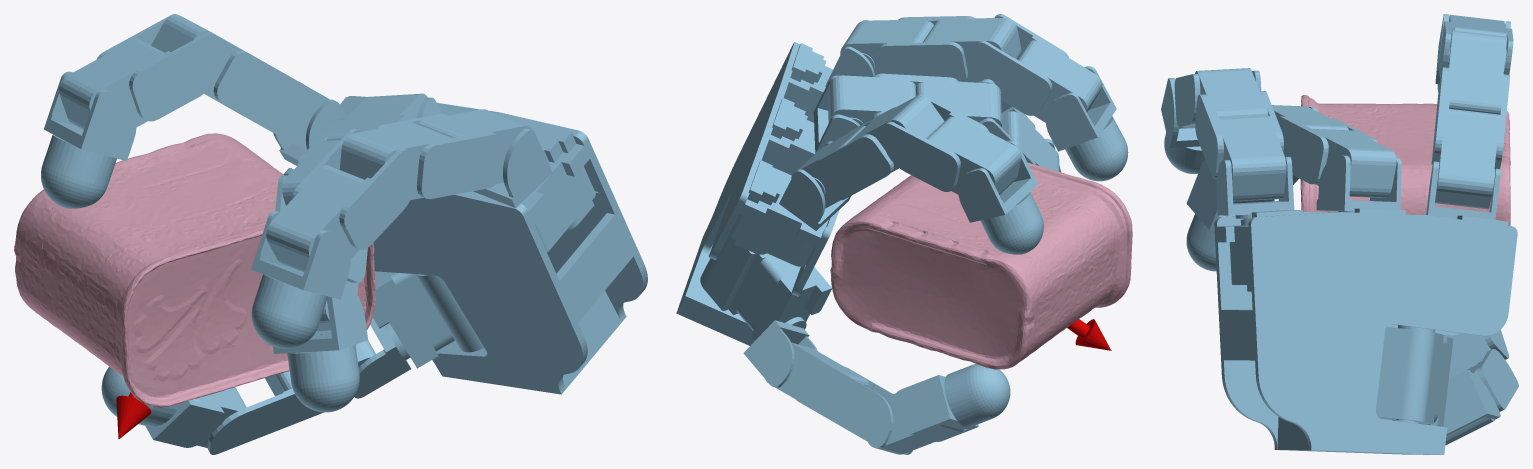
3 views of the same model, side by side, from view 1: azimuth 30°, elevation 25°; view 2: azimuth 150°, elevation 25°; view 3: azimuth 270°, elevation 25° (orthographic). The views are drawn at different scales.
Visible parts, largest first — view 1: world, potted_meat_can.stl; view 2: world, potted_meat_can.stl; view 3: world, potted_meat_can.stl.
Part boxes in pixels (x1=…): world: x1=41, y1=14, x2=647, y2=454; potted_meat_can.stl: x1=14, y1=133, x2=375, y2=407; world: x1=676, y1=14, x2=1128, y2=454; potted_meat_can.stl: x1=830, y1=162, x2=1132, y2=369; world: x1=1161, y1=14, x2=1518, y2=454; potted_meat_can.stl: x1=1300, y1=95, x2=1510, y2=225.
Size of the model in its own units: 0.2047 by 0.1655 by 0.1422.
